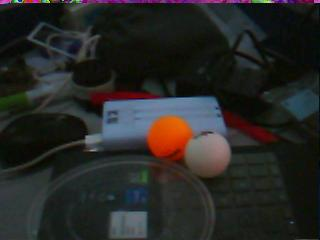oball: (146, 116, 189, 162)
